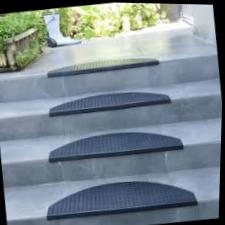Bench: (0, 20, 225, 225)
